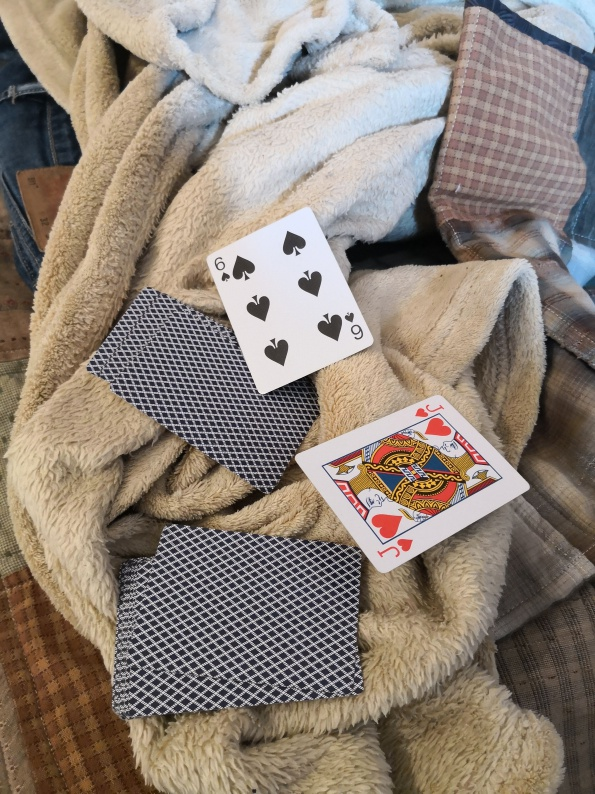6: (205, 205, 376, 395)
jack: (293, 394, 532, 575)
